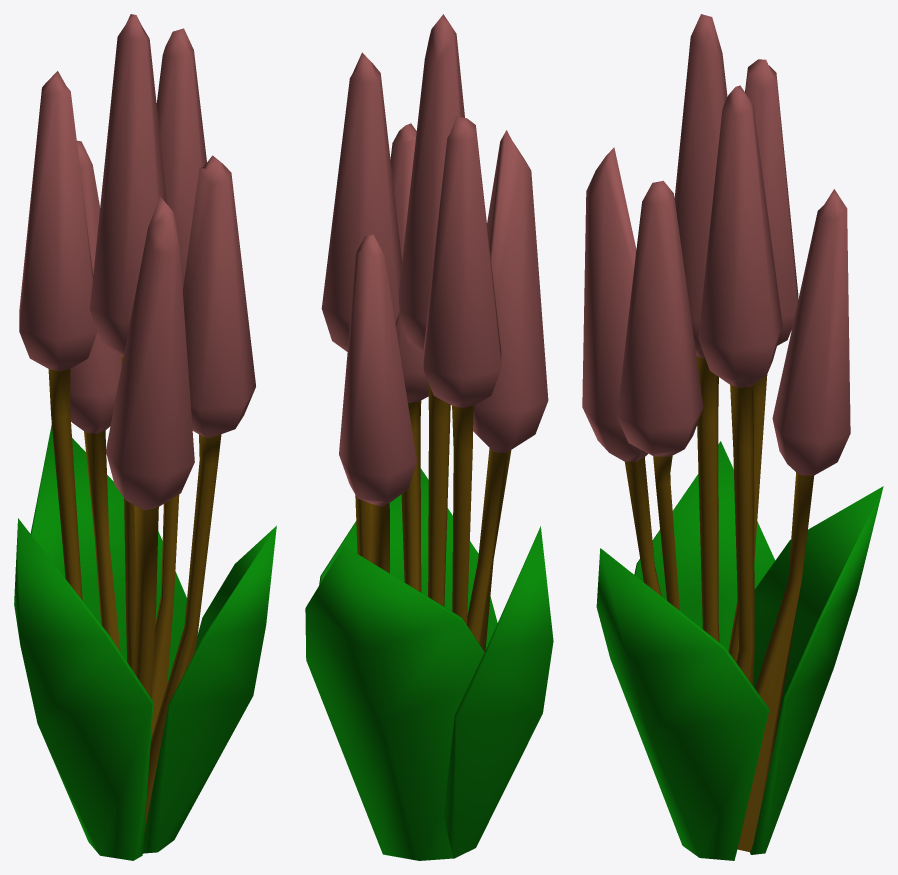
Rendered from Cactus_Leafy_03.fbx.
The picture shows the model from 3 angles, left to right: view 1: azimuth 30°, elevation 25°; view 2: azimuth 150°, elevation 25°; view 3: azimuth 270°, elevation 25°; orthographic projection.
Visible parts, largest first — view 1: Cactus_Leafy_03; view 2: Cactus_Leafy_03; view 3: Cactus_Leafy_03.
Part boxes in pixels (x1,y1,x2,y2): Cactus_Leafy_03: (14, 14, 276, 860); Cactus_Leafy_03: (305, 14, 553, 860); Cactus_Leafy_03: (582, 14, 883, 860).
Size of the model in its own units: 0.4092 by 1.44 by 0.4758.
